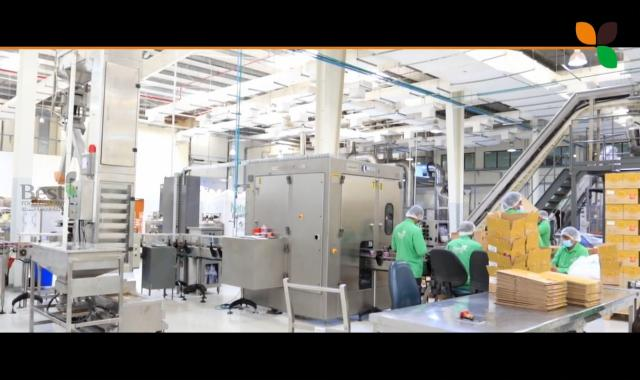hairnet: (500, 191, 522, 209), (560, 225, 582, 242), (458, 220, 478, 236), (405, 205, 422, 220), (536, 208, 549, 220)
